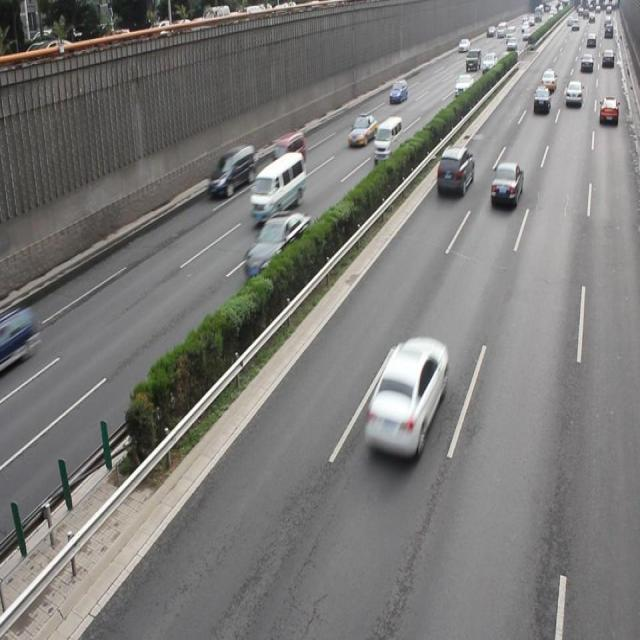car: (362, 336, 446, 463), (243, 211, 310, 282), (436, 146, 473, 196), (489, 160, 522, 210), (347, 113, 375, 145), (598, 95, 617, 125)
truck: (250, 152, 305, 222), (207, 142, 255, 202), (272, 130, 306, 170), (374, 116, 401, 163)
